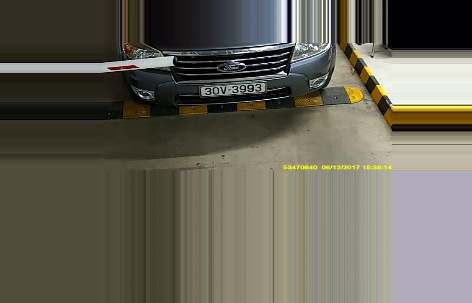plate: (197, 80, 268, 99)
